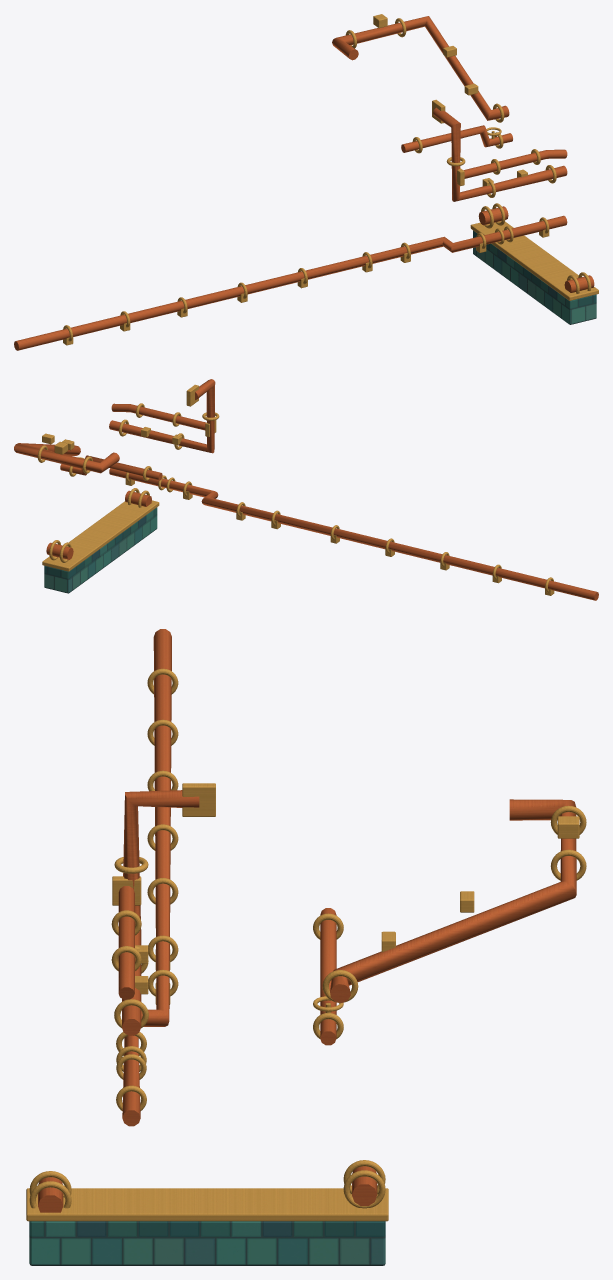
Rendered from act2_interconnect_pipes.glb.
3 views of the same model, one above another, from view 1: azimuth 30°, elevation 25°; view 2: azimuth 150°, elevation 25°; view 3: azimuth 270°, elevation 25° (orthographic). The views are drawn at different scales.
Parts seen in each view (by area): view 1: SM_Act2_InterconnectPipes_Mesh; view 2: SM_Act2_InterconnectPipes_Mesh; view 3: SM_Act2_InterconnectPipes_Mesh.
Boxes of the visible parts, x1,y1,x2,y2 form: SM_Act2_InterconnectPipes_Mesh: (14, 14, 598, 350); SM_Act2_InterconnectPipes_Mesh: (14, 379, 598, 600); SM_Act2_InterconnectPipes_Mesh: (26, 629, 586, 1265).
Size of the model in its own units: 9.53 by 3.52 by 4.64.
Materials: 3 (3 with a texture image).
